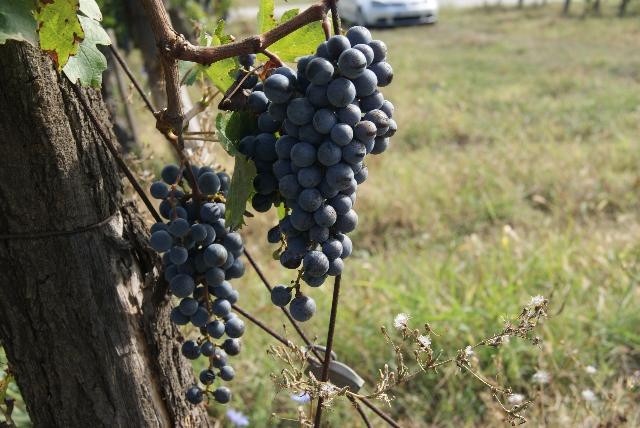grapes: (239, 26, 396, 280), (150, 169, 245, 404), (290, 294, 316, 321), (271, 286, 290, 306)
